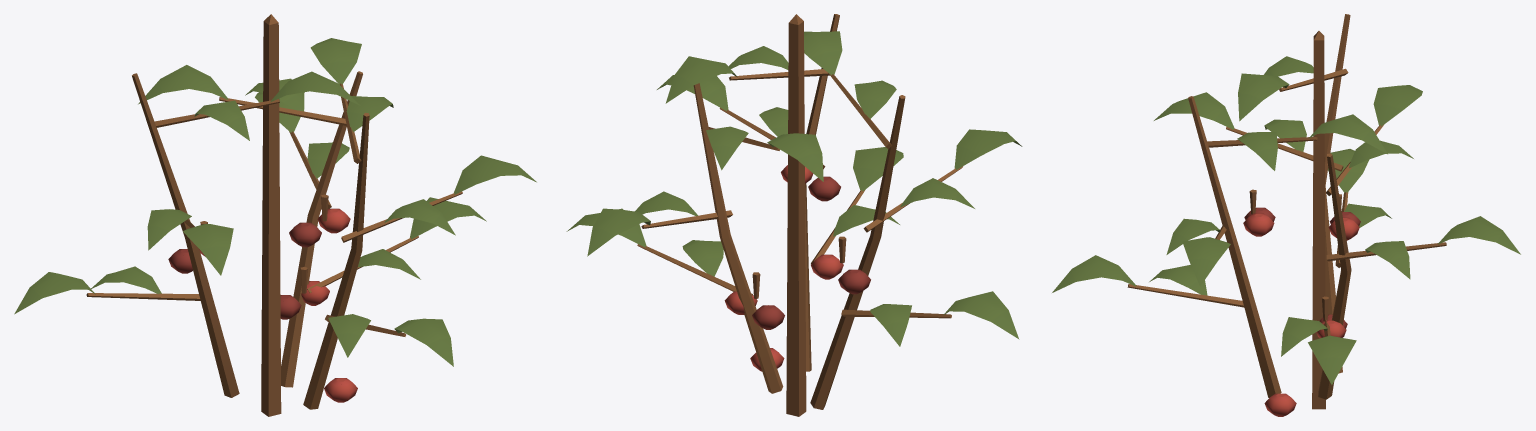
The model's file is crop_tomato_overripe.glb.
3 views of the same model, side by side, from view 1: azimuth 30°, elevation 25°; view 2: azimuth 150°, elevation 25°; view 3: azimuth 270°, elevation 25° (orthographic). The views are drawn at different scales.
Visible parts, largest first — view 1: tomato_cluster_00_fruit_00_calyx_0, tomato_leaf_00_00_leaflet_00, tomato_cluster_00_fruit_00_body, tomato_cluster_00_fruit_01_body; view 2: tomato_cluster_00_fruit_00_calyx_0, tomato_leaf_00_00_leaflet_00, tomato_cluster_00_fruit_01_body, tomato_cluster_00_fruit_00_body; view 3: tomato_leaf_00_00_leaflet_00, tomato_cluster_00_fruit_00_calyx_0, tomato_cluster_00_fruit_00_body.
Boxes of the visible parts, x1,y1,x2,y2 form: tomato_cluster_00_fruit_00_calyx_0: [86, 14, 462, 416]; tomato_leaf_00_00_leaflet_00: [14, 38, 536, 366]; tomato_cluster_00_fruit_00_body: [199, 208, 357, 402]; tomato_cluster_00_fruit_01_body: [168, 222, 321, 319]; tomato_cluster_00_fruit_00_calyx_0: [637, 14, 962, 416]; tomato_leaf_00_00_leaflet_00: [566, 31, 1022, 346]; tomato_cluster_00_fruit_01_body: [752, 176, 870, 329]; tomato_cluster_00_fruit_00_body: [724, 165, 843, 371]; tomato_leaf_00_00_leaflet_00: [1052, 56, 1520, 384]; tomato_cluster_00_fruit_00_calyx_0: [1127, 14, 1446, 409]; tomato_cluster_00_fruit_00_body: [1243, 213, 1359, 416].
Size of the model in its own units: 1.31 by 1.08 by 1.22.
